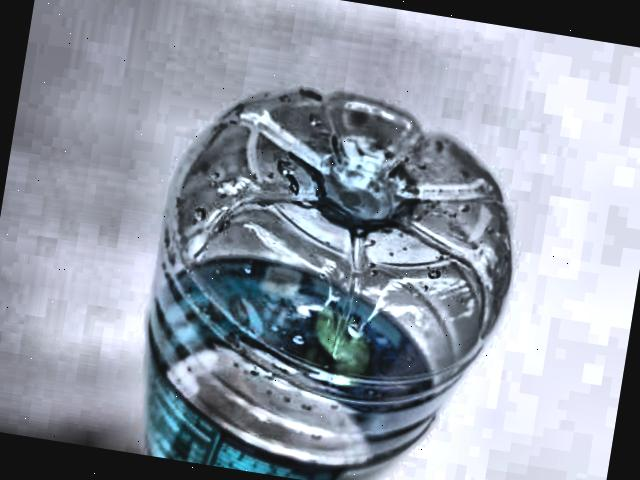Bottles: (102, 49, 550, 480)
